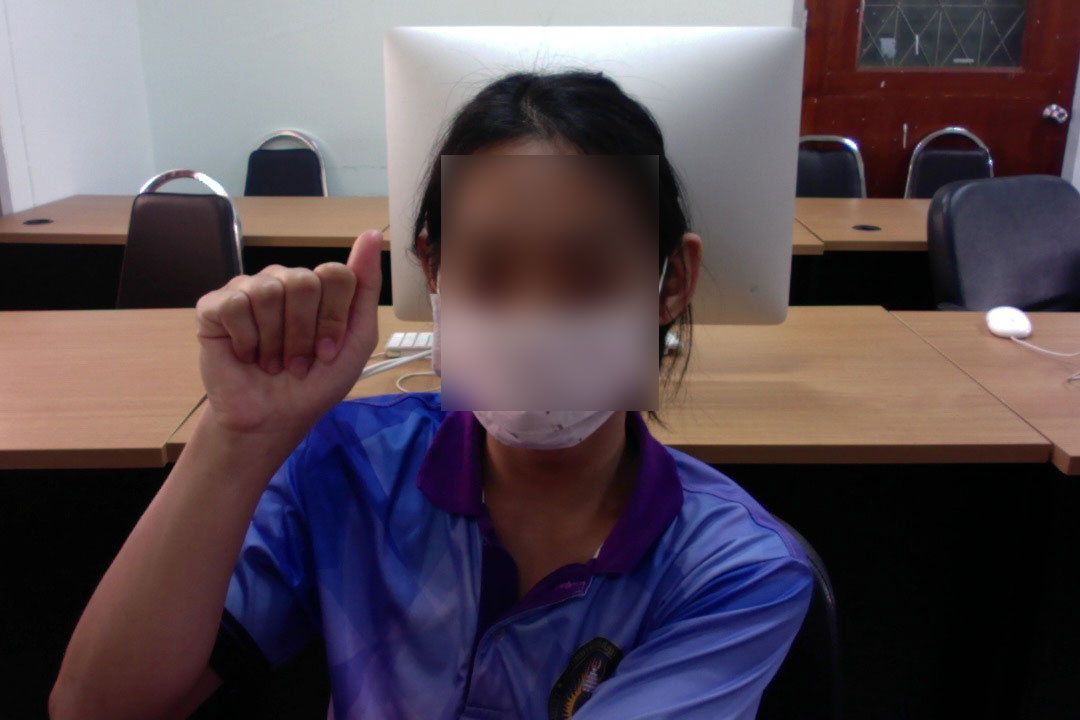or: (180, 225, 401, 455)
